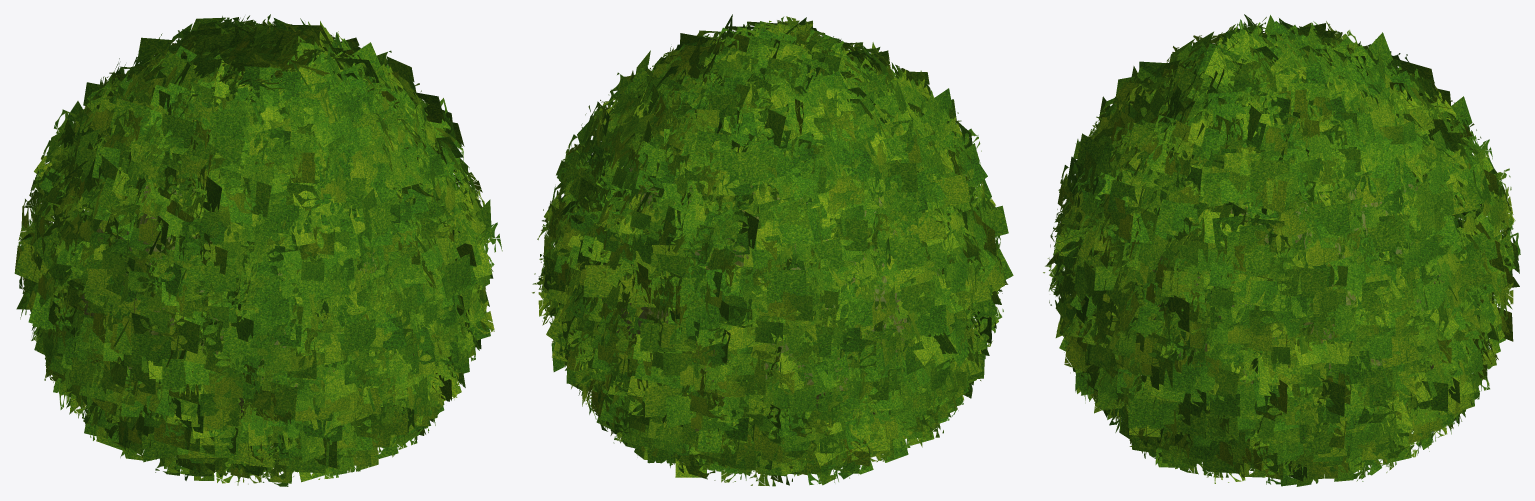
The model's file is SphereBush.glb.
3 views of the same model, side by side, from view 1: azimuth 30°, elevation 25°; view 2: azimuth 150°, elevation 25°; view 3: azimuth 270°, elevation 25° (orthographic).
Parts seen in each view (by area): view 1: Bush; view 2: Bush; view 3: Bush.
Part boxes in pixels (x1,y1,x2,y2): Bush: [14, 14, 502, 486]; Bush: [532, 14, 1013, 486]; Bush: [1043, 14, 1520, 486].
Bounding box in the file's own units: 3.62 × 3.3 × 3.6.
2 materials, 2 textured.
